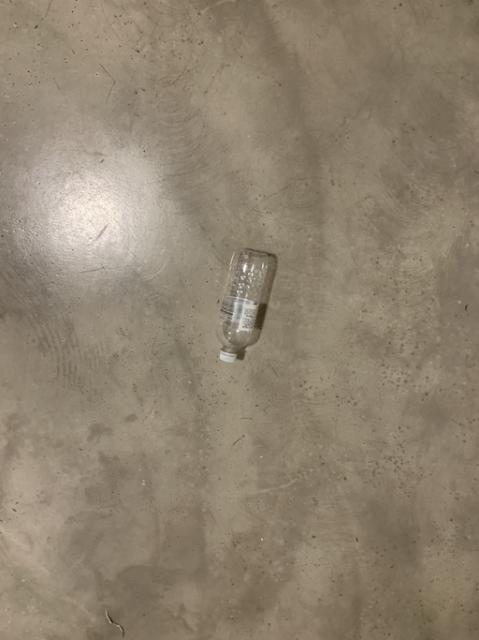plastic: (216, 247, 275, 361)
